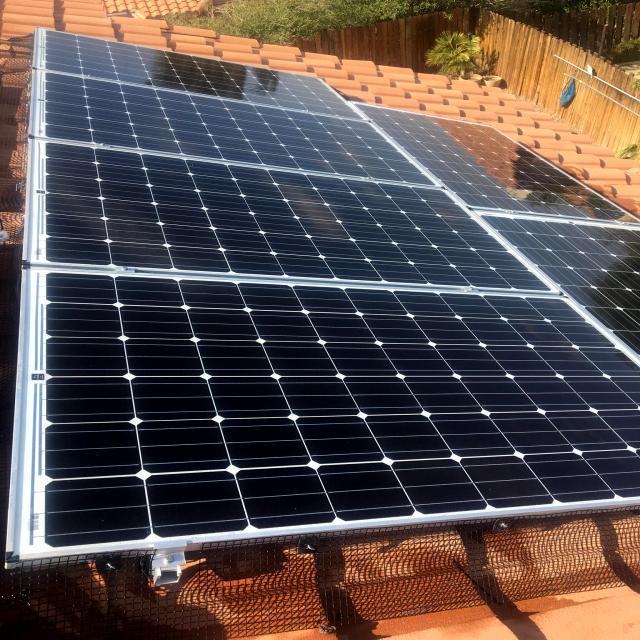crack: (38, 272, 640, 561), (33, 148, 536, 300), (29, 75, 427, 194), (38, 31, 338, 138), (54, 378, 157, 441)
